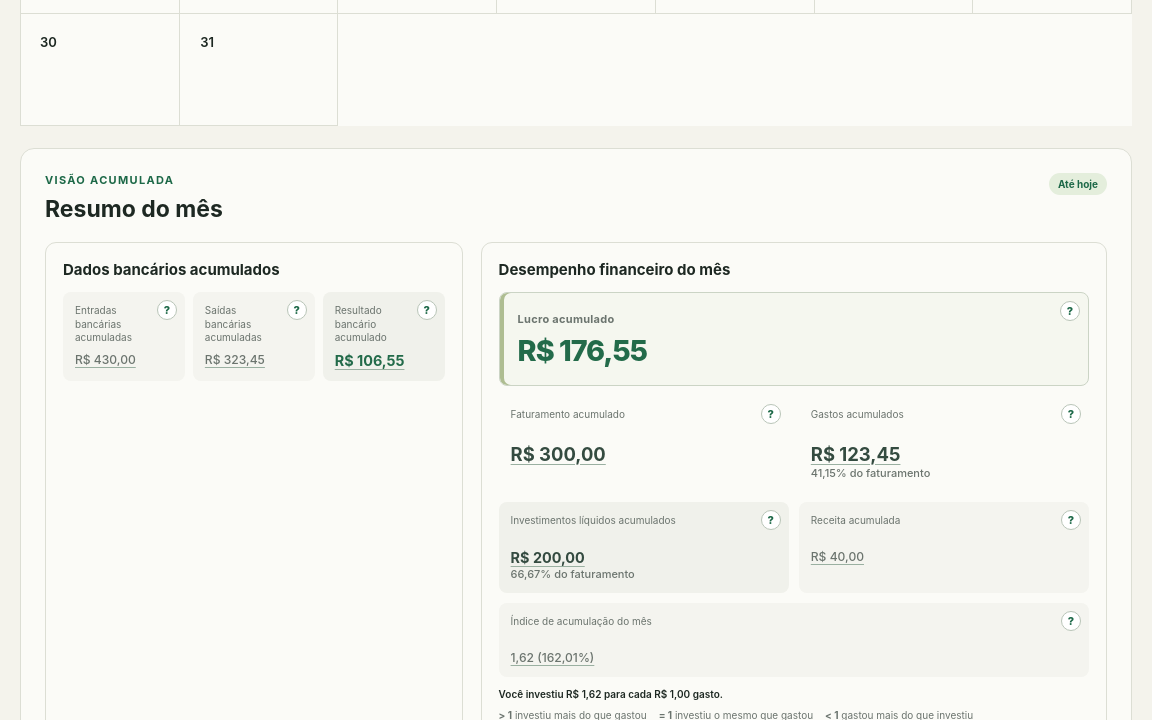
detalhamento dos indicadores acumulados › apresenta a composição derivada do resultado e todas as movimentações bancárias do período
(page scrolled)
Click the button "R$ 106,55": (370, 360) [331,348,408,372]
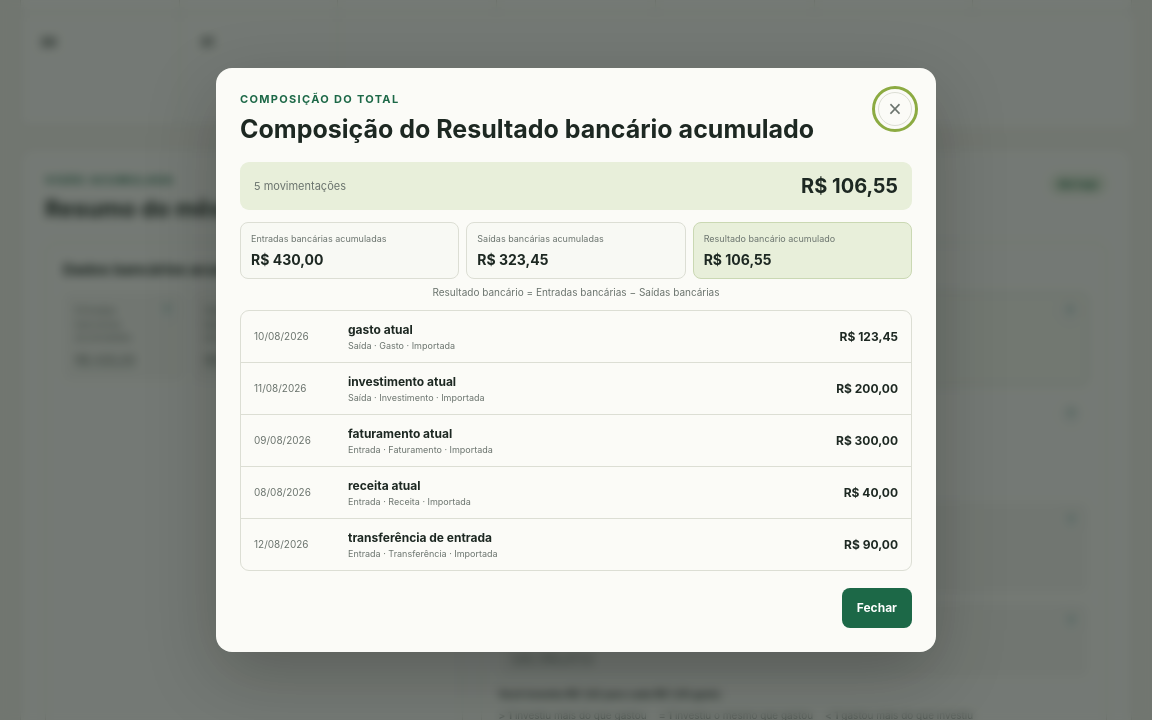
Expected: the dialog shows "Composição do Resultado bancário acumulado", [240,114,814,144]
Expected: the dialog shows "Resultado bancário = Entradas bancárias − Saídas bancárias", [432,286,720,298]
Expected: the text "R$ 323,45" is shown, [477,251,548,268]
